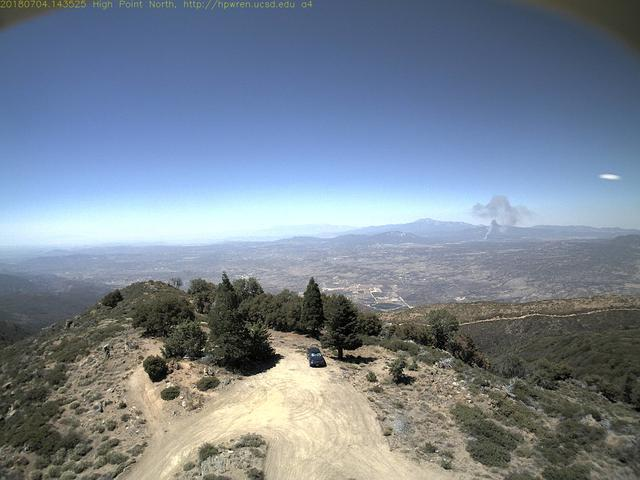smoke: (462, 195, 541, 245)
